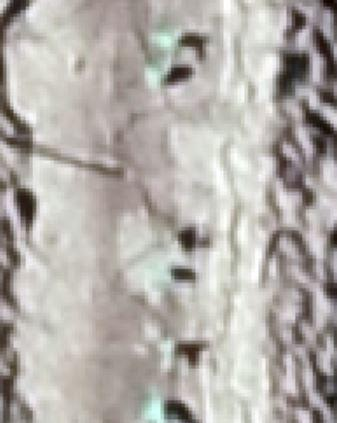cotton: (147, 394, 164, 421), (150, 31, 174, 50), (145, 67, 160, 90), (160, 260, 171, 281)
